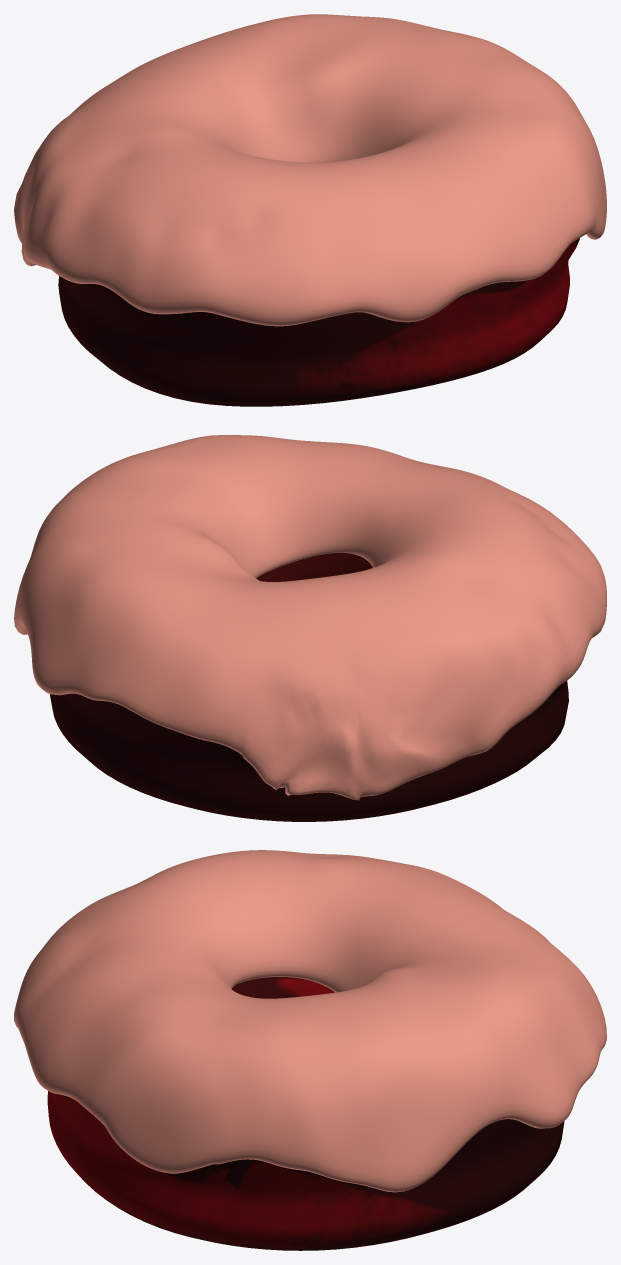
3 renders of one model, top to bottom at view 1: azimuth 30°, elevation 25°; view 2: azimuth 150°, elevation 25°; view 3: azimuth 270°, elevation 25°, orthographic. The views are drawn at different scales.
Parts seen in each view (by area): view 1: Torus001, Torus001_1; view 2: Torus001, Torus001_1; view 3: Torus001, Torus001_1.
Boxes of the visible parts, x1,y1,x2,y2 form: Torus001: (14, 14, 606, 326); Torus001_1: (58, 238, 579, 406); Torus001: (14, 435, 606, 800); Torus001_1: (49, 552, 568, 821); Torus001: (14, 850, 606, 1192); Torus001_1: (47, 977, 564, 1250).
Size of the model in its own units: 0.1047 by 0.0433 by 0.1009.
2 materials, 1 textured.
